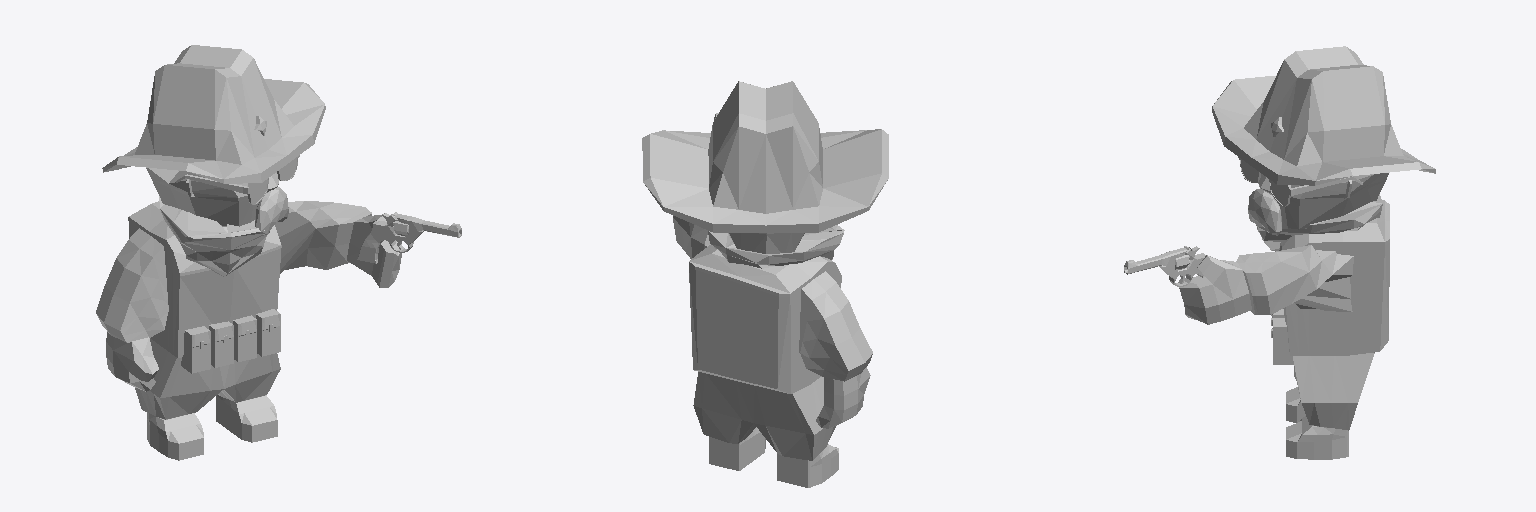
File: polyman.obj
3 views of the same model, side by side, from view 1: azimuth 30°, elevation 25°; view 2: azimuth 150°, elevation 25°; view 3: azimuth 270°, elevation 25° (orthographic).
Parts seen in each view (by area): view 1: Cube.1034_Cube.3981; view 2: Cube.1034_Cube.3981; view 3: Cube.1034_Cube.3981.
Part boxes in pixels (bbox=[...]): Cube.1034_Cube.3981: bbox=[96, 45, 461, 460]; Cube.1034_Cube.3981: bbox=[642, 81, 888, 487]; Cube.1034_Cube.3981: bbox=[1124, 46, 1435, 459].
Size of the model in its own units: 0.631 by 0.8742 by 0.6558.